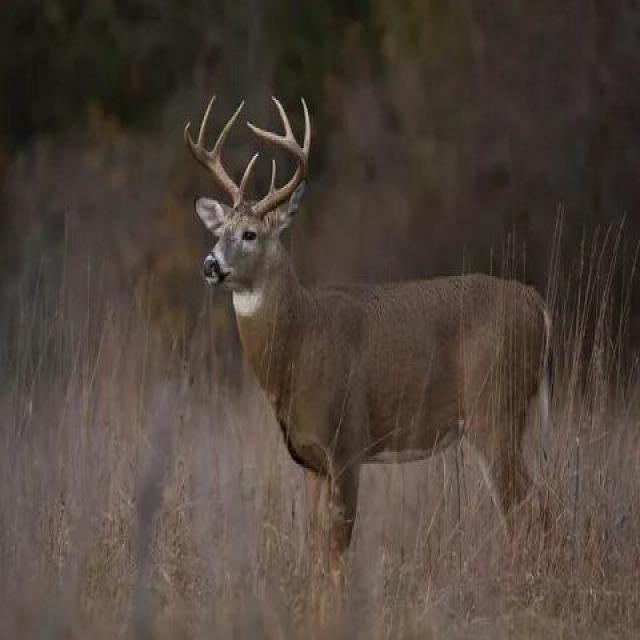deer: (173, 148, 612, 529)
